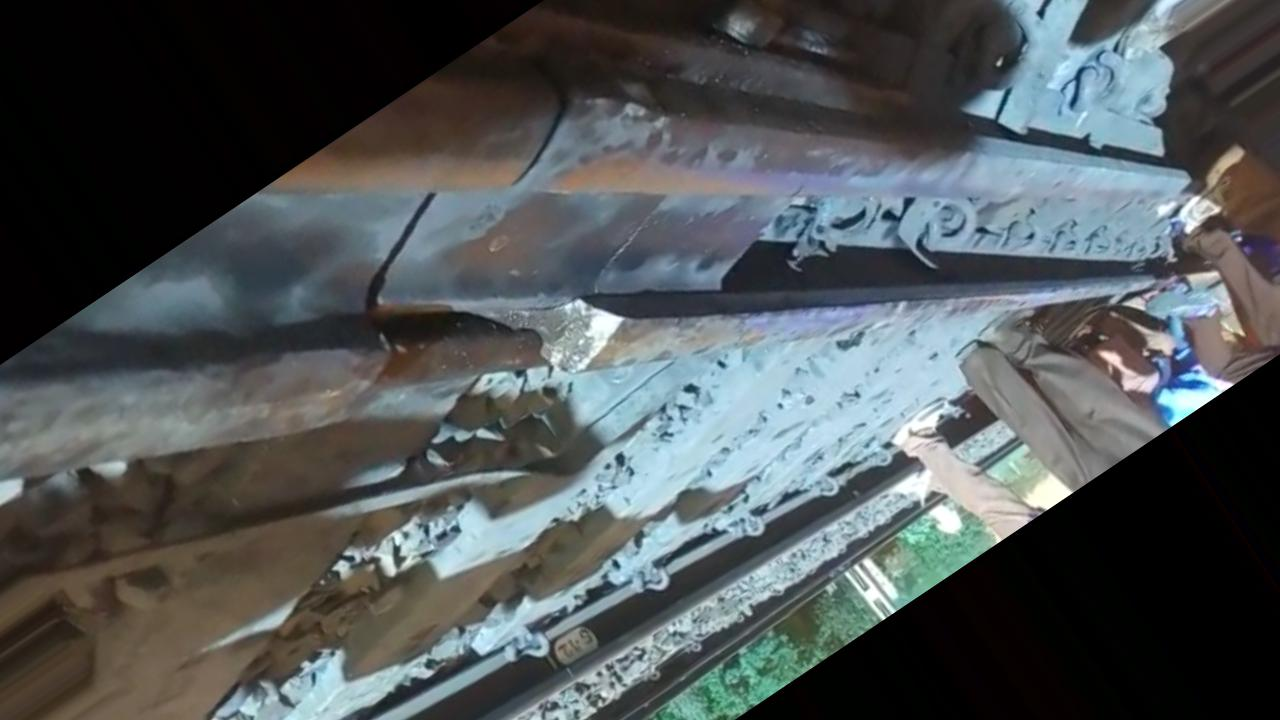tracks_fault: (385, 206, 748, 474)
